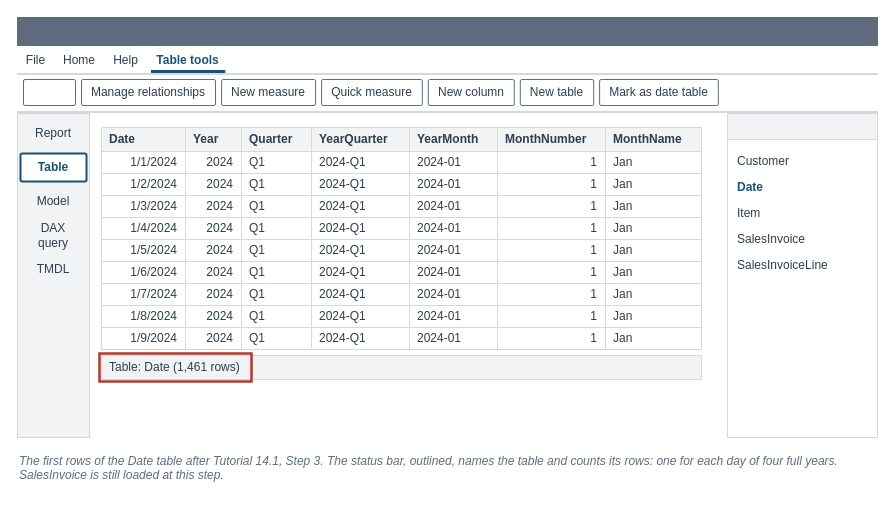
Image size: 895x507. Some labels were removed from this diagram. Here are the shapes that lost their labels. From the top down, the centre of each, then its label:
the point at 447,31: Charles River Reports - Power BI Desktop
the point at 49,92: Name
the point at 802,126: Data
